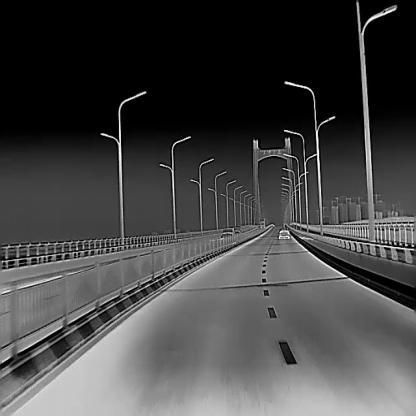car: (277, 227, 290, 239), (220, 228, 233, 236), (260, 217, 265, 227), (233, 227, 240, 233)
